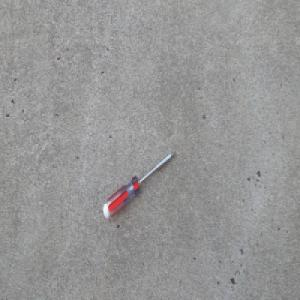Screwdriver: (102, 150, 176, 219)
